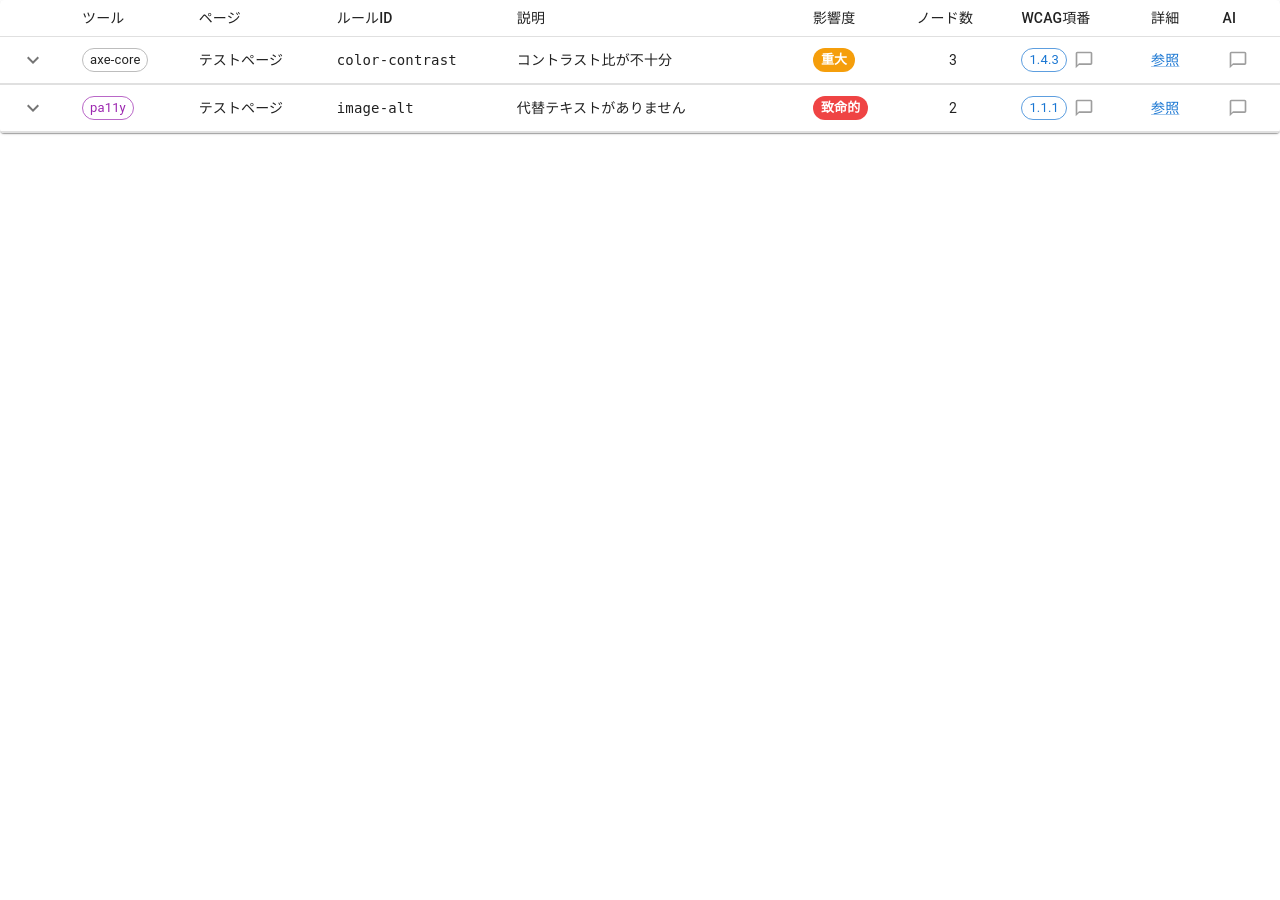
Test: フロントエンド統合テスト (Task 12.2) › 違反テーブル行展開でノード表示 (Req 1.1) › 展開状態で再度クリックすると折りたたまれる
Click the button named "ノード情報を展開" next to "axe-core". click: (33, 60)
box: top-left (16, 43), bottom-right (50, 77)
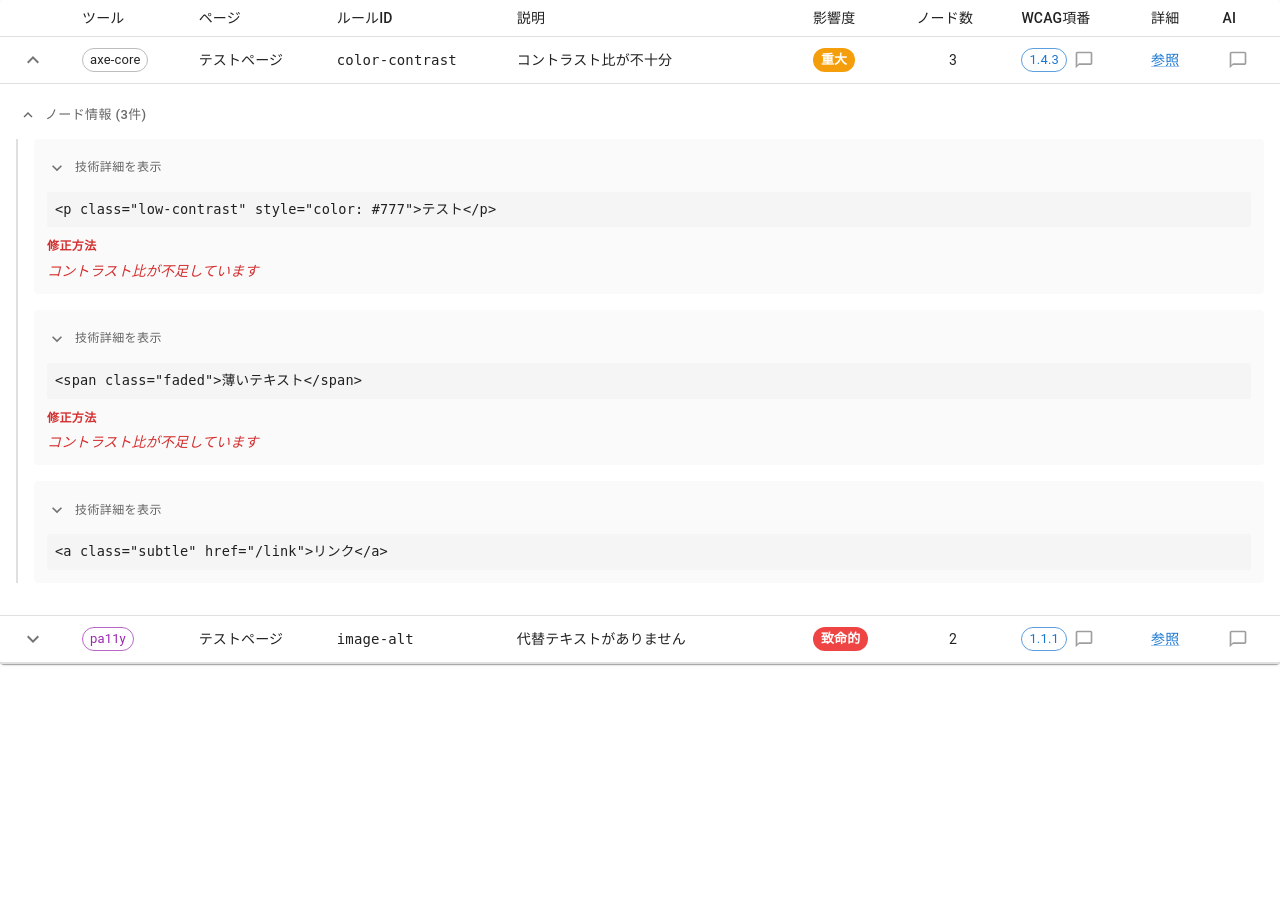
Expected: the text "<p class=\"low-contrast\" style=\"color: #777\">テスト</p>" is shown, top-left (47, 192), bottom-right (1251, 227)
Click the button named "ノード情報を折りたたむ". click: (33, 60)
box: top-left (16, 43), bottom-right (50, 77)
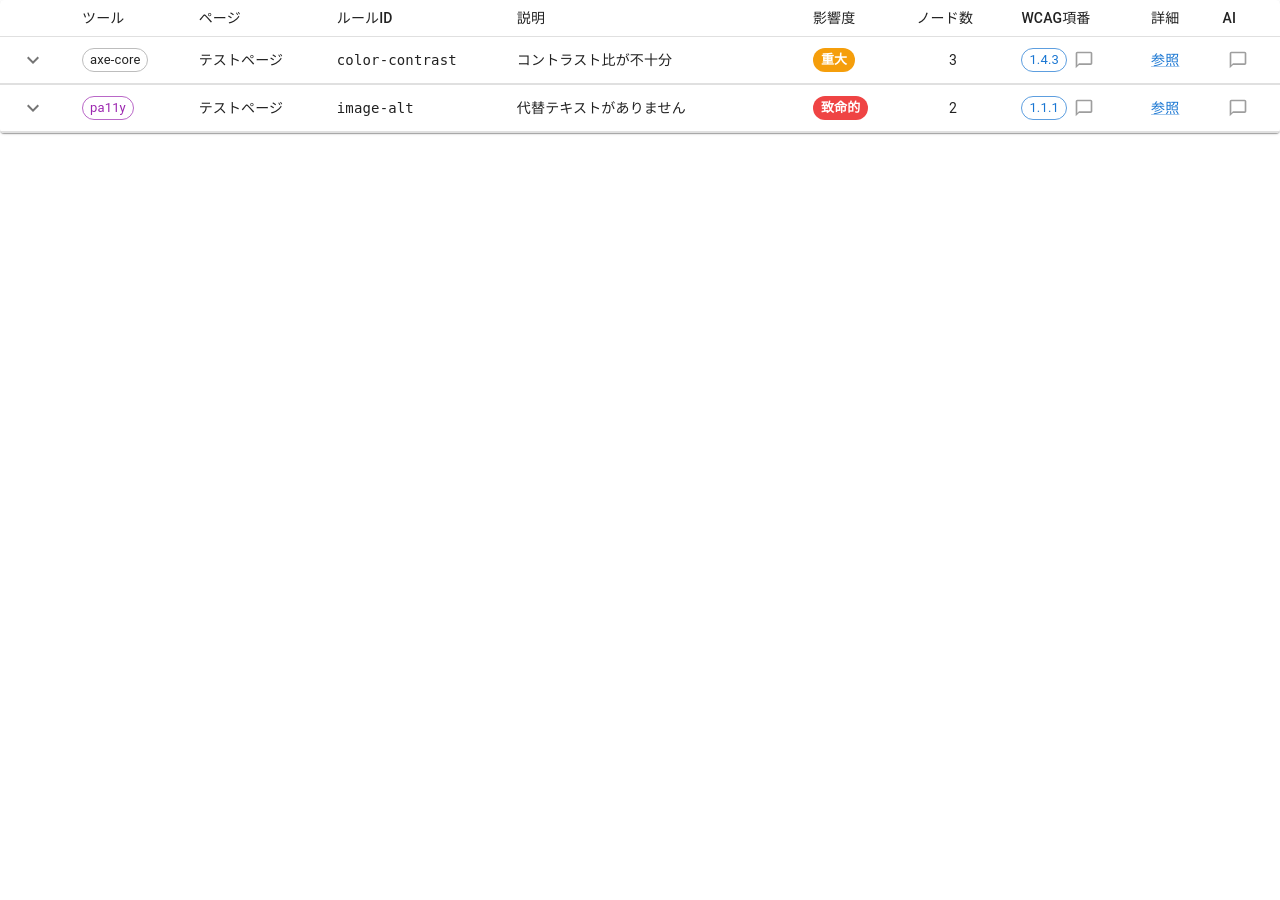
Expected: the button named "ノード情報を展開" next to "axe-core" is shown, top-left (16, 43), bottom-right (50, 77)
